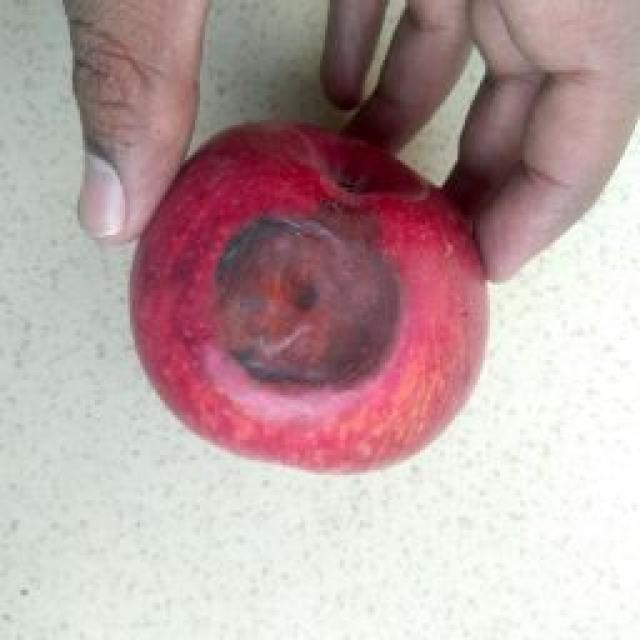Bad_Apple: (131, 125, 488, 472)
